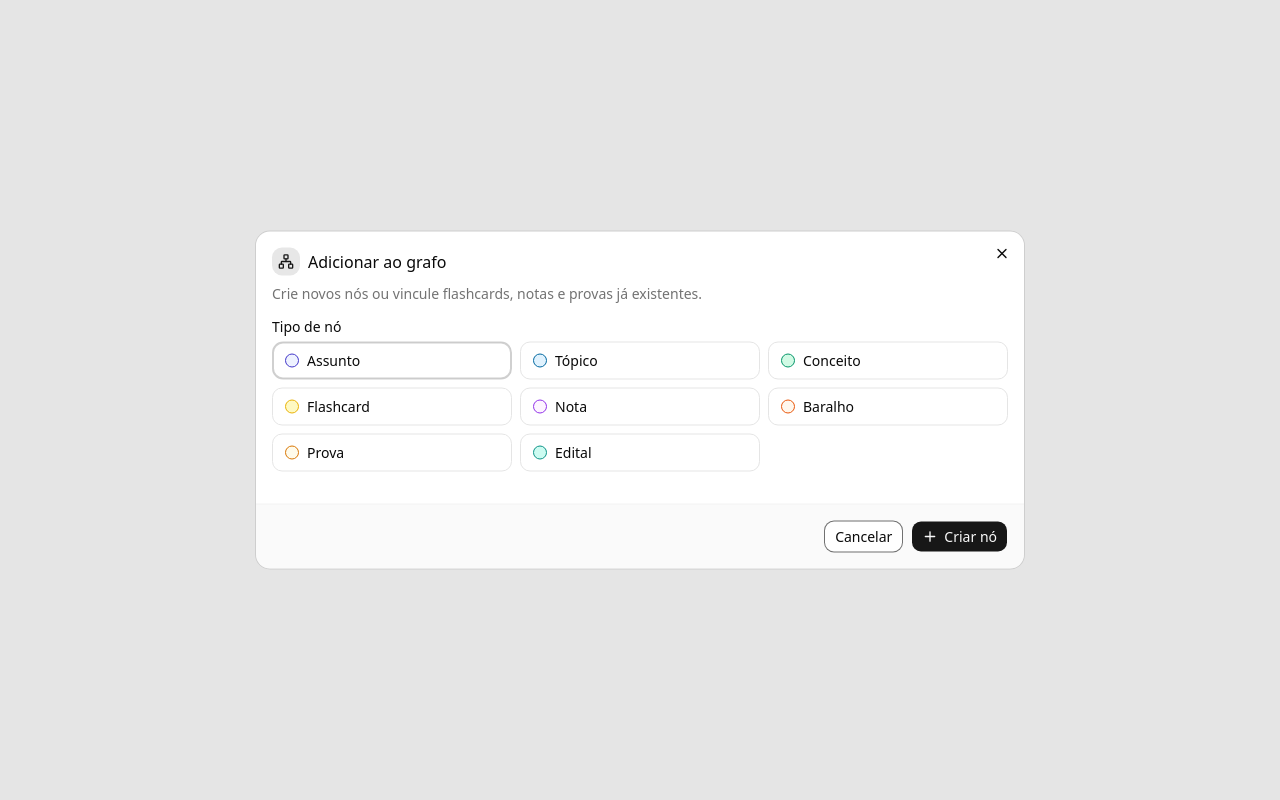
CreateNodeModal validation › names the selected type in the missing-name message
The width and height of the screenshot is (1280, 800).
What coordinates should you click on to do the following:
click the button "Assunto"
I would click on:
 (392, 360)
Its box is [272,342,512,380].
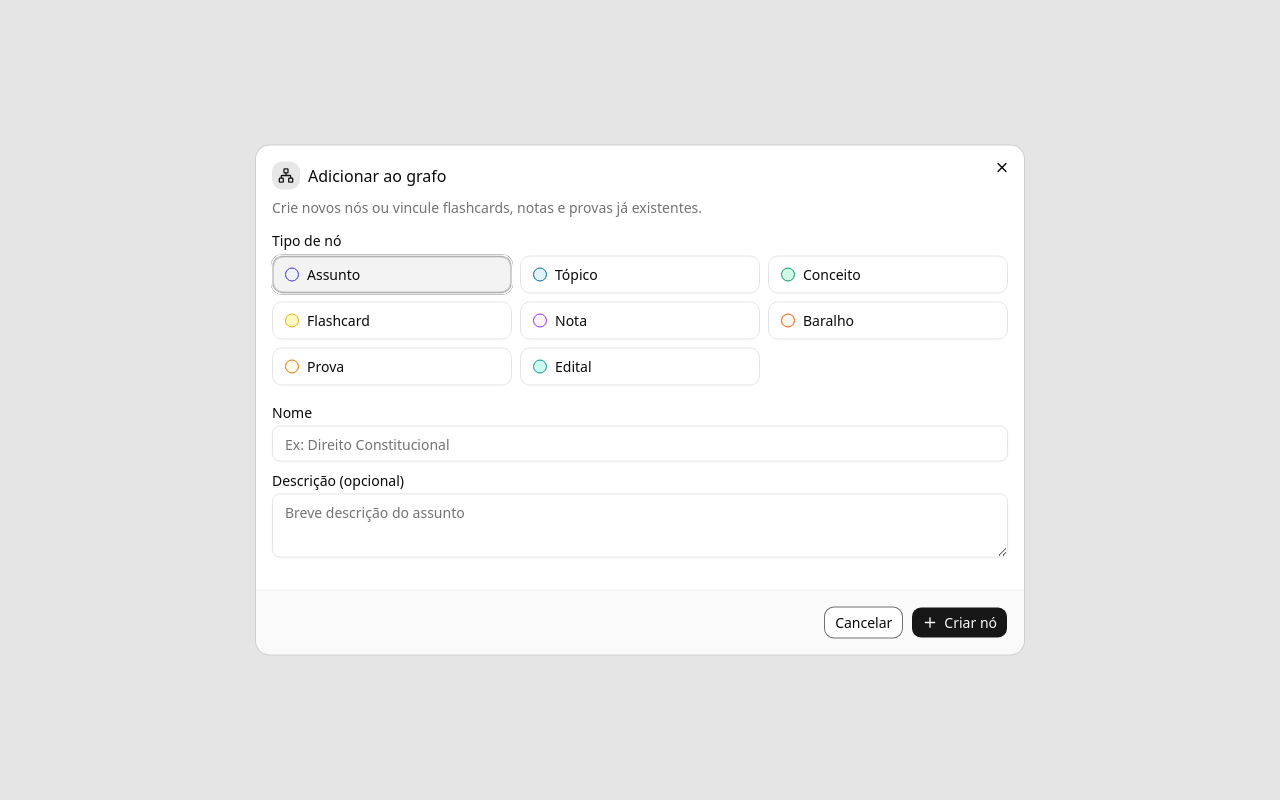
What coordinates should you click on to do the following:
click the button "Criar nó"
I would click on:
 (960, 622)
Its box is [911,606,1008,638].
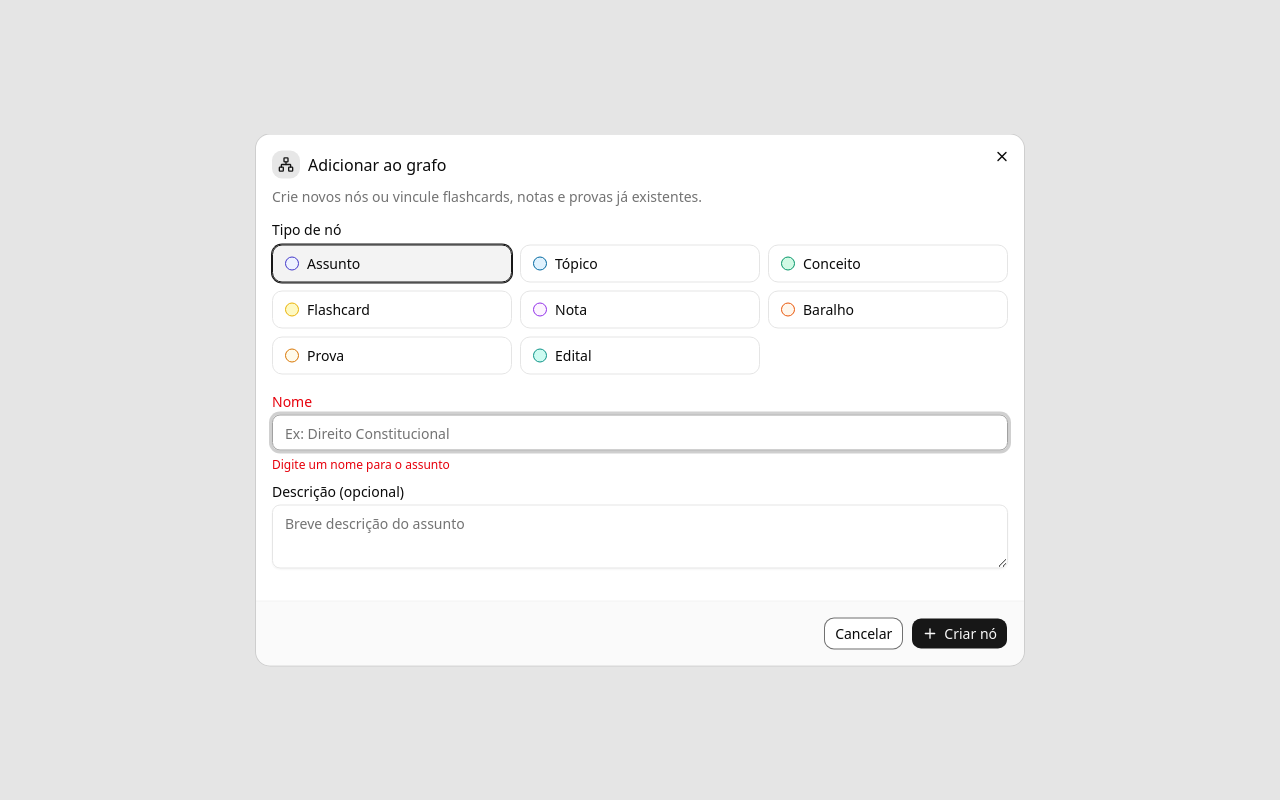
Expected: the text "Digite um nome para o assunto" is shown, [272,456,450,472]
